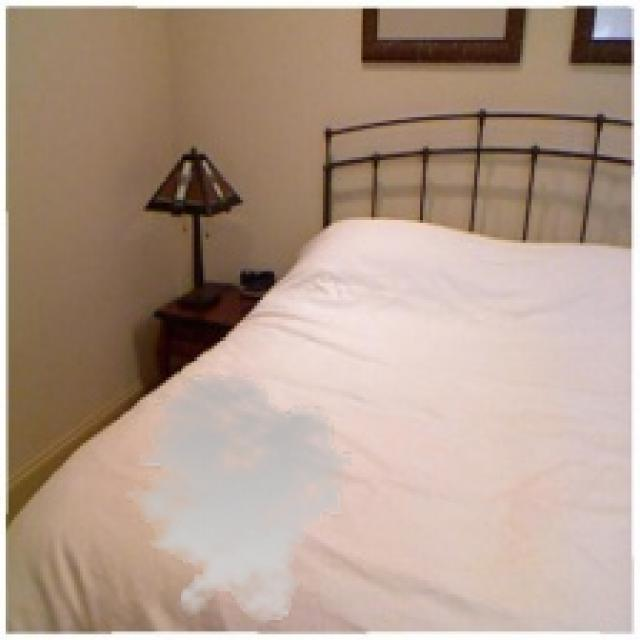Smoke: (111, 371, 360, 626)
